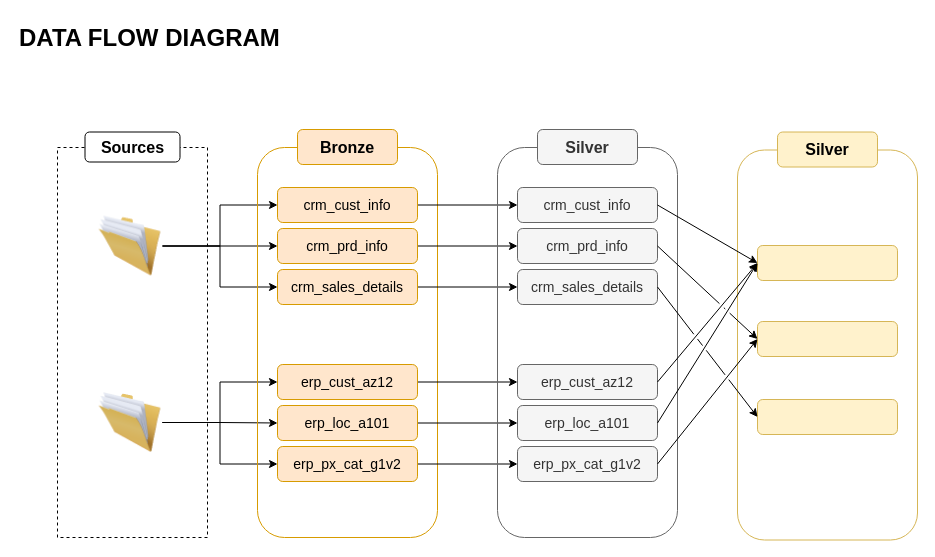
Some shapes in this 935 by 557 pixel diagram are drawn without their labels. The shapes that lost their labels are listed below. From the top down, each one's box as (x1, y1, x2, y2) in pixels, then its label:
(97, 216, 162, 276): CRM
(756, 244, 898, 280): dim_customers
(756, 320, 898, 356): dim_products
(97, 392, 162, 452): EPM
(756, 398, 898, 434): fact_sales
